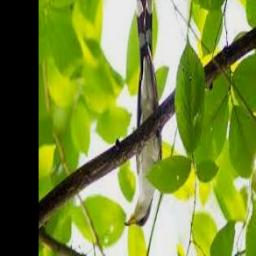Cuckoo: (124, 0, 161, 227)
